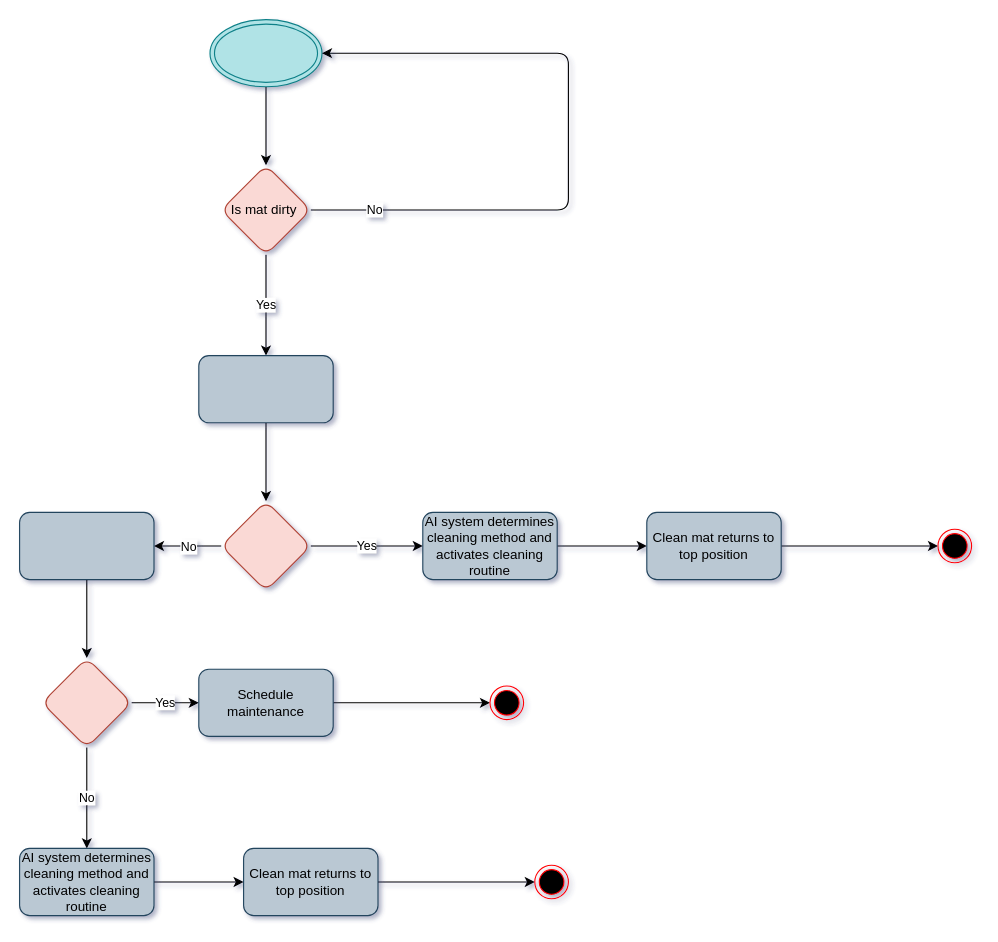
The diagram is 998 pixels wide and 942 high, and some of its shapes have lost their labels. The centre of each missing label's shape, as x and y in pixels:
Does the AI system predict maintenance is required?: [86,545]
Does the sensor detect moisture or other contaminants?: [265,388]
Start: [265,52]
